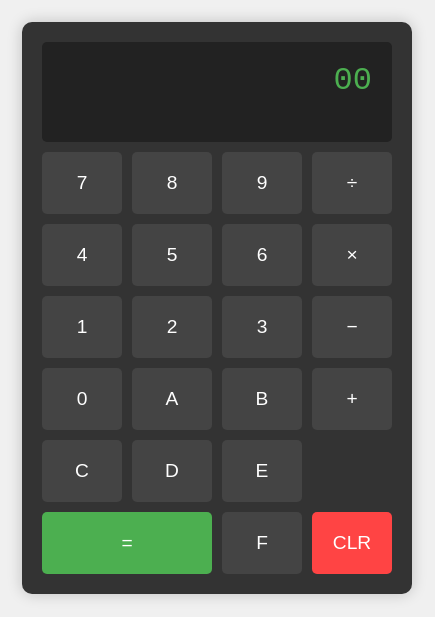
Test case: Calculator GUI Tests › Displays numbers correctly when clicked
This screenshot has width=435, height=617.
expect the text with class "display" reads "00": met, box x1=42 y1=42 x2=392 y2=142
Click the button with test id "button-1".
click(82, 327)  # box x1=42 y1=296 x2=122 y2=358
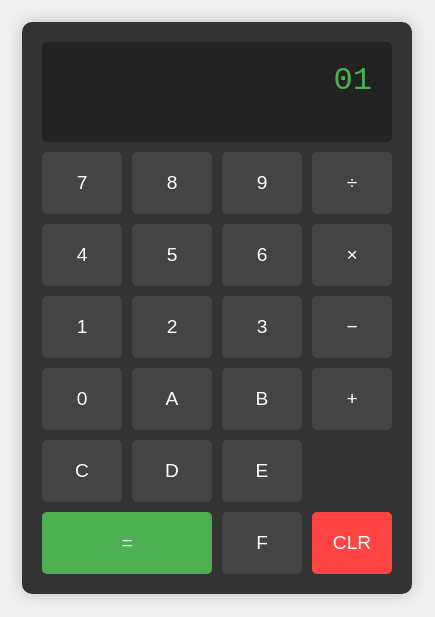
Click the button with test id "button-A".
click(172, 399)  # box x1=132 y1=368 x2=212 y2=430
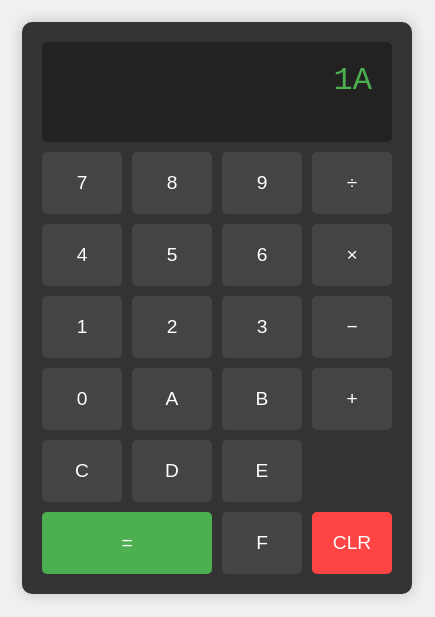
expect the text with class "display" reads "1A": met, box x1=42 y1=42 x2=392 y2=142
